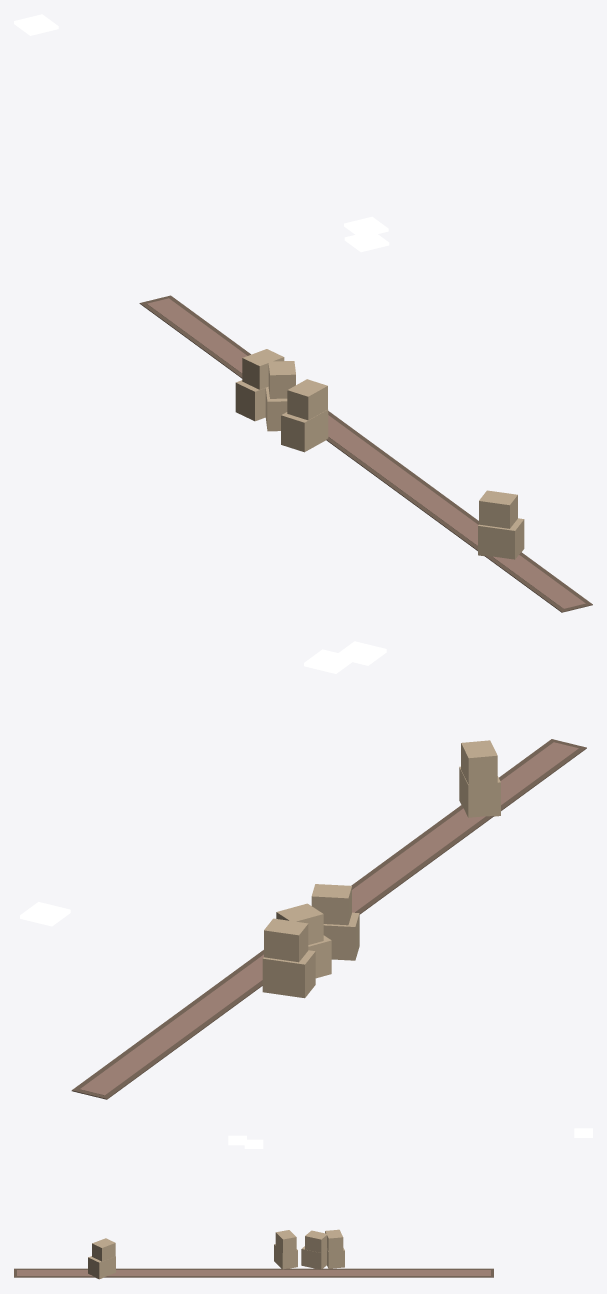
The model's file is fine-s0.glb.
The picture shows the model from 3 angles, top to bottom: view 1: azimuth 30°, elevation 25°; view 2: azimuth 150°, elevation 25°; view 3: azimuth 270°, elevation 25°; orthographic projection. The views are drawn at different scales.
Parts seen in each view (by area): view 1: soft-s0, crate.000, cardboard-box.002, cardboard-box.000, cardboard-box.001; view 2: soft-s0, cardboard-box.000, cardboard-box.002, crate.000, cardboard-box.001, ceiling-lamp.001, ceiling-lamp.000, ceiling-lamp.002; view 3: soft-s0, cardboard-box.002, cardboard-box.001, crate.000, cardboard-box.000.
Boxes of the visible parts, x1,y1,x2,y2 form: soft-s0: [139, 295, 592, 612]; crate.000: [281, 379, 328, 452]; cardboard-box.002: [478, 490, 524, 559]; cardboard-box.000: [235, 349, 284, 421]; cardboard-box.001: [265, 361, 295, 431]; soft-s0: [71, 739, 586, 1099]; cardboard-box.000: [262, 918, 315, 998]; cardboard-box.002: [459, 740, 500, 817]; crate.000: [311, 884, 359, 960]; cardboard-box.001: [276, 903, 331, 978]; ceiling-lamp.001: [20, 902, 70, 926]; ceiling-lamp.000: [304, 649, 354, 673]; ceiling-lamp.002: [337, 641, 386, 665]; soft-s0: [14, 1268, 493, 1277]; cardboard-box.002: [88, 1238, 115, 1279]; cardboard-box.001: [301, 1230, 327, 1269]; crate.000: [274, 1230, 297, 1269]; cardboard-box.000: [325, 1229, 344, 1268].
Bounding box in the file's own units: 1.35 × 3.86 × 15.59.
